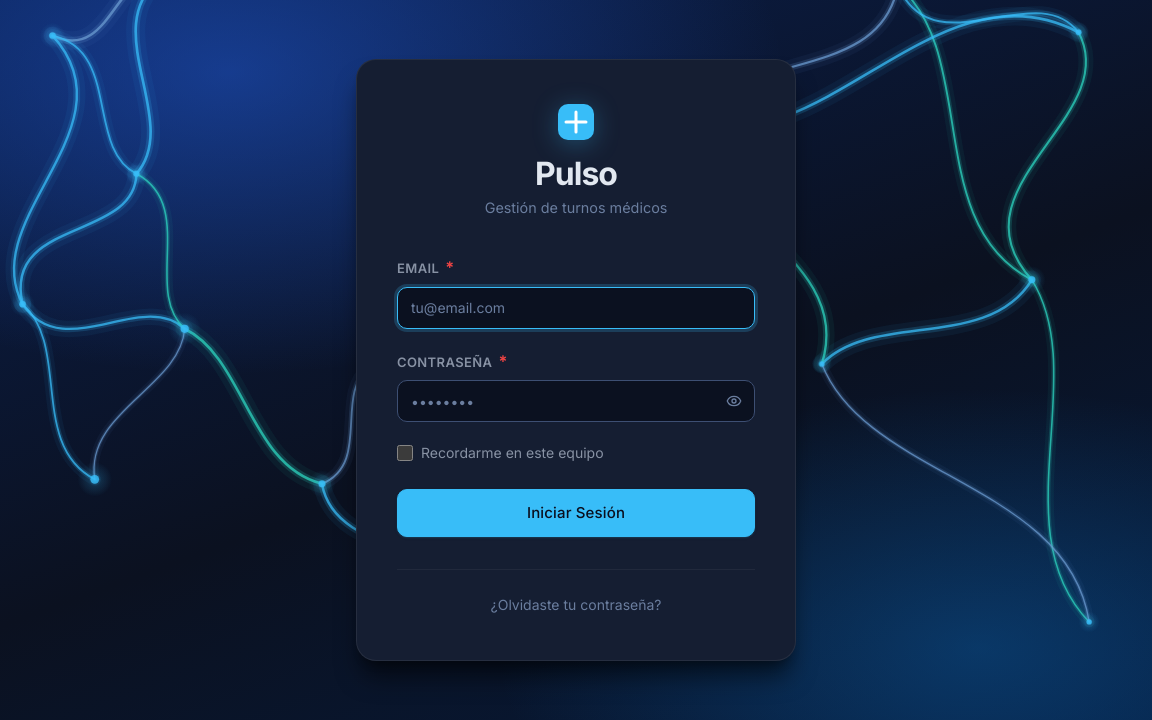
Test: LoginPage — qué le dice al que no puede entrar › muestra el motivo real del servidor: el cliente rechaza con un objeto, no con un Error
Step 1. Type "admin@h.com" into the field labelled "Email" → (576, 308), box [397, 286, 755, 328]
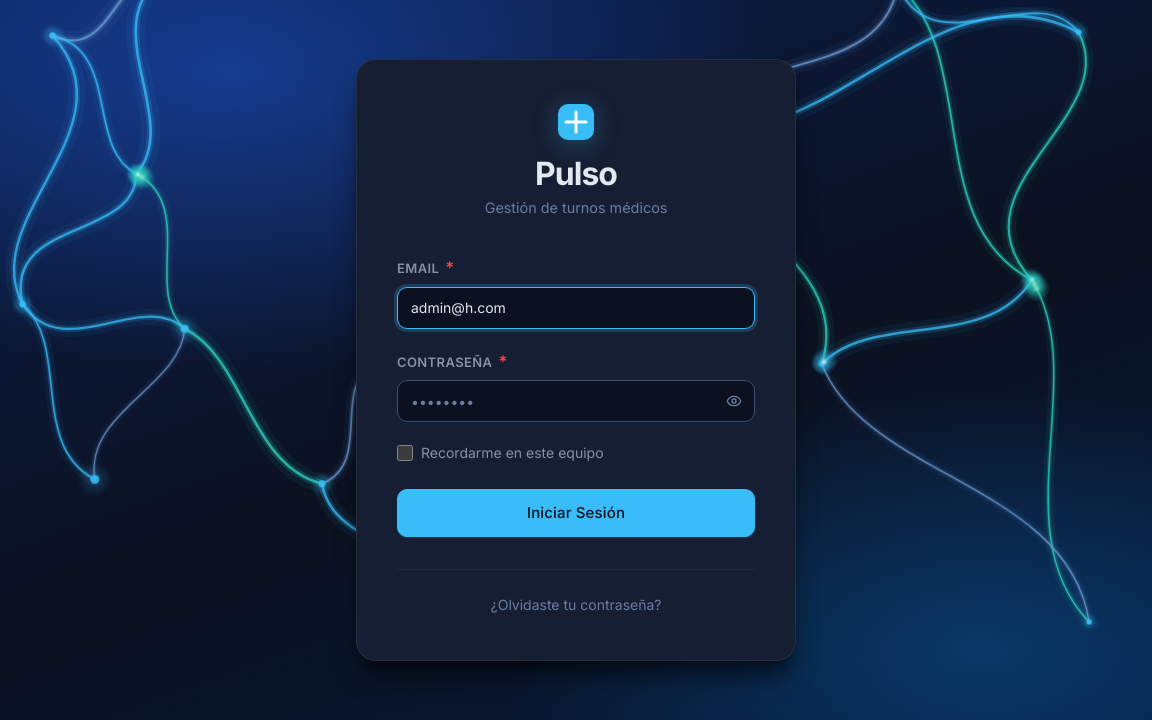
Step 2. Type "Admin1234" into the password field labelled "Contraseña" → (576, 401), box [397, 380, 755, 422]
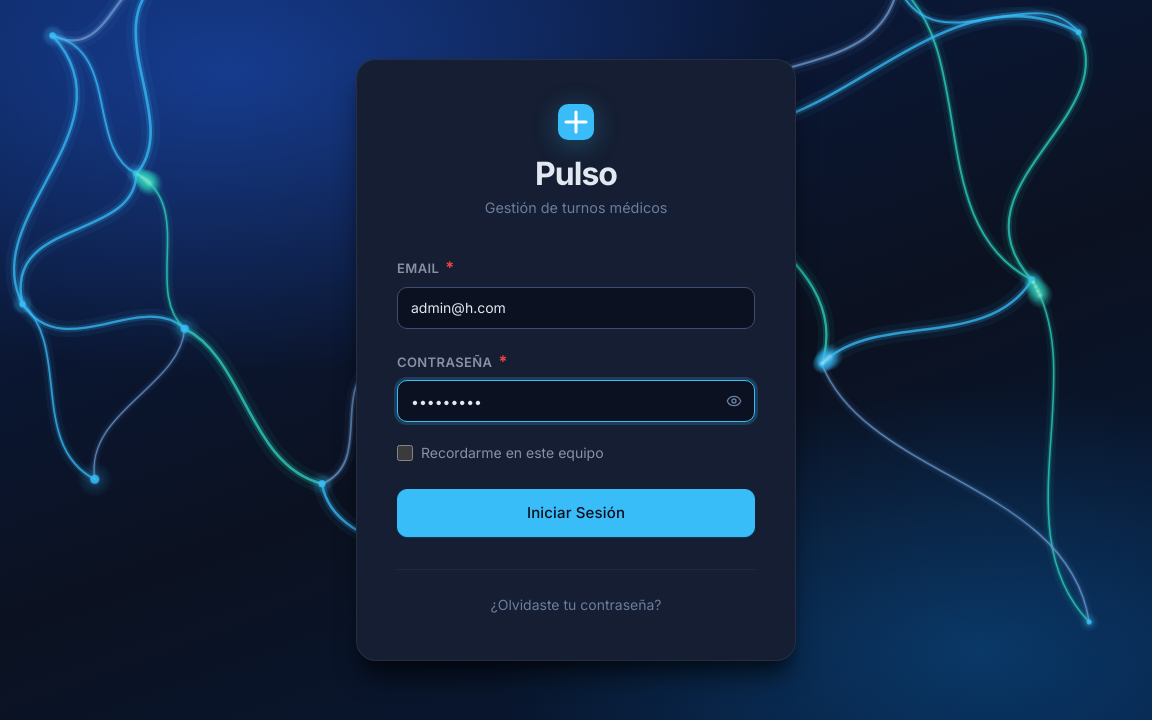
Step 3. Click the button "Iniciar Sesión" → (576, 512), box [397, 488, 755, 536]
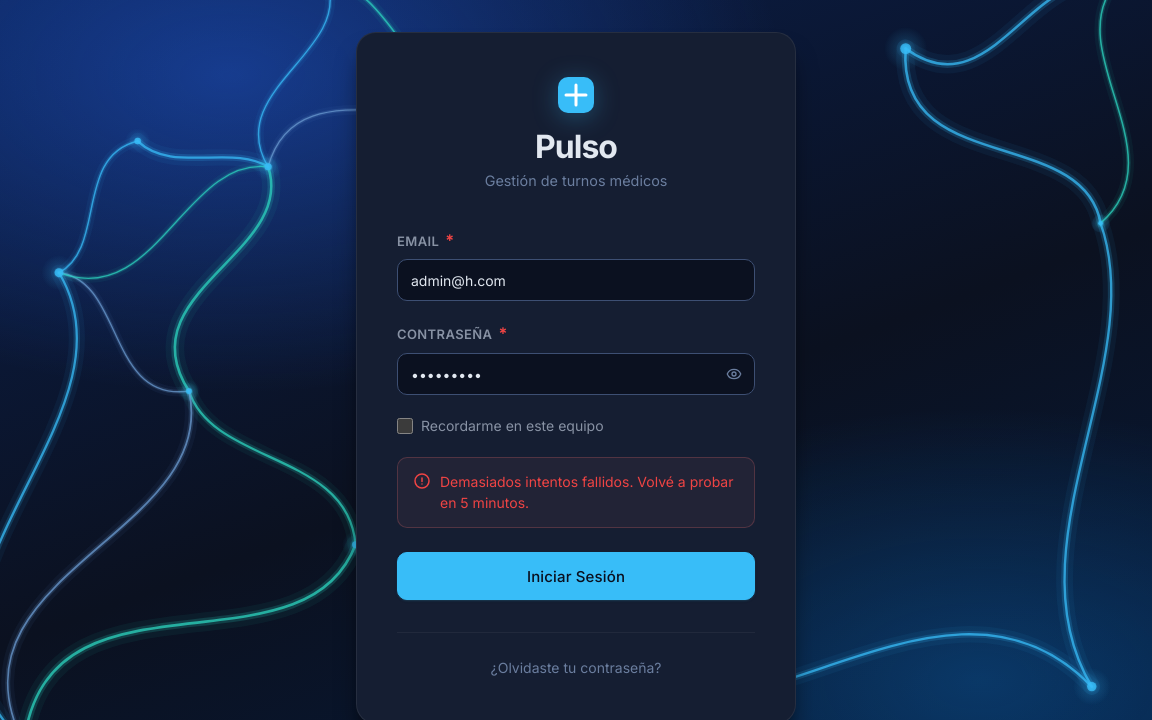
Now the text "Demasiados intentos fallidos. Volvé a probar en 5 minutos." is shown, box [397, 458, 755, 528]
